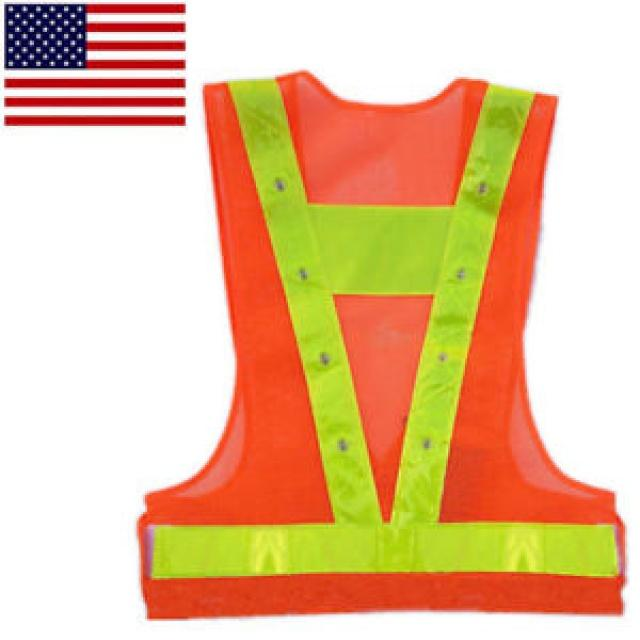vest: (131, 95, 630, 640)
